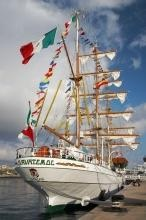fanchuan: (11, 7, 137, 209)
